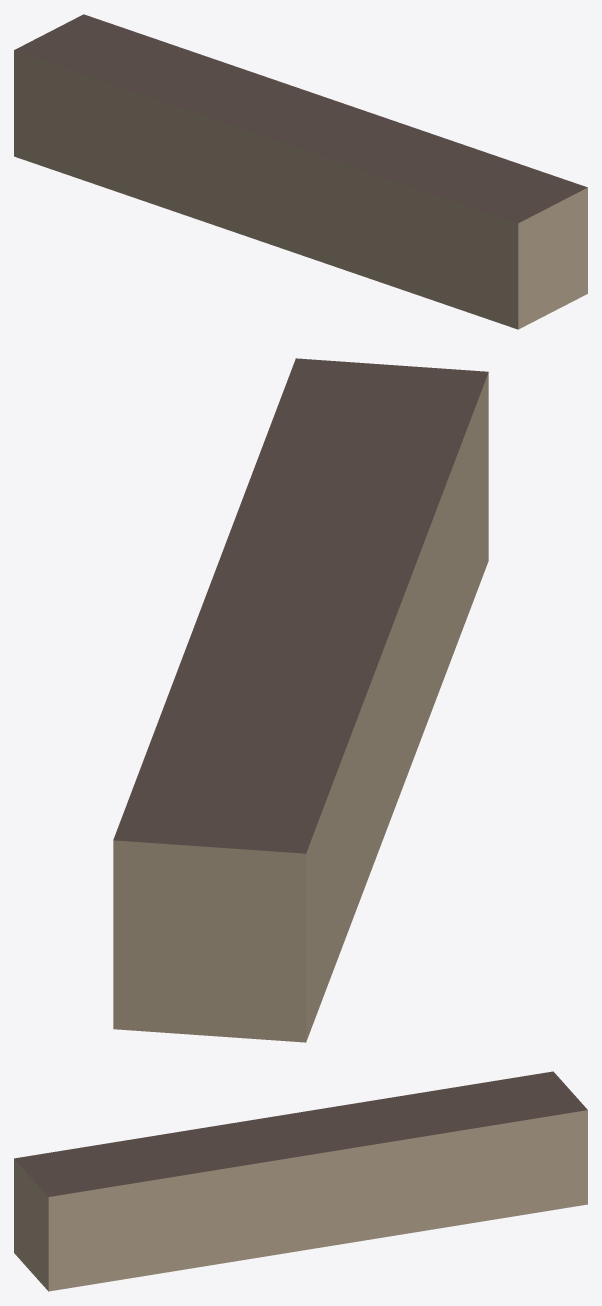
3 views of the same model, one above another, from view 1: azimuth 30°, elevation 25°; view 2: azimuth 150°, elevation 25°; view 3: azimuth 270°, elevation 25° (orthographic). The views are drawn at different scales.
Visible parts, largest first — view 1: HP-w859078958; view 2: HP-w859078958; view 3: HP-w859078958.
Boxes of the visible parts, x1,y1,x2,y2 form: HP-w859078958: (14, 14, 587, 329); HP-w859078958: (113, 358, 488, 1042); HP-w859078958: (14, 1071, 587, 1291).
Bounding box in the file's own units: 25.69 × 9 × 49.57.
